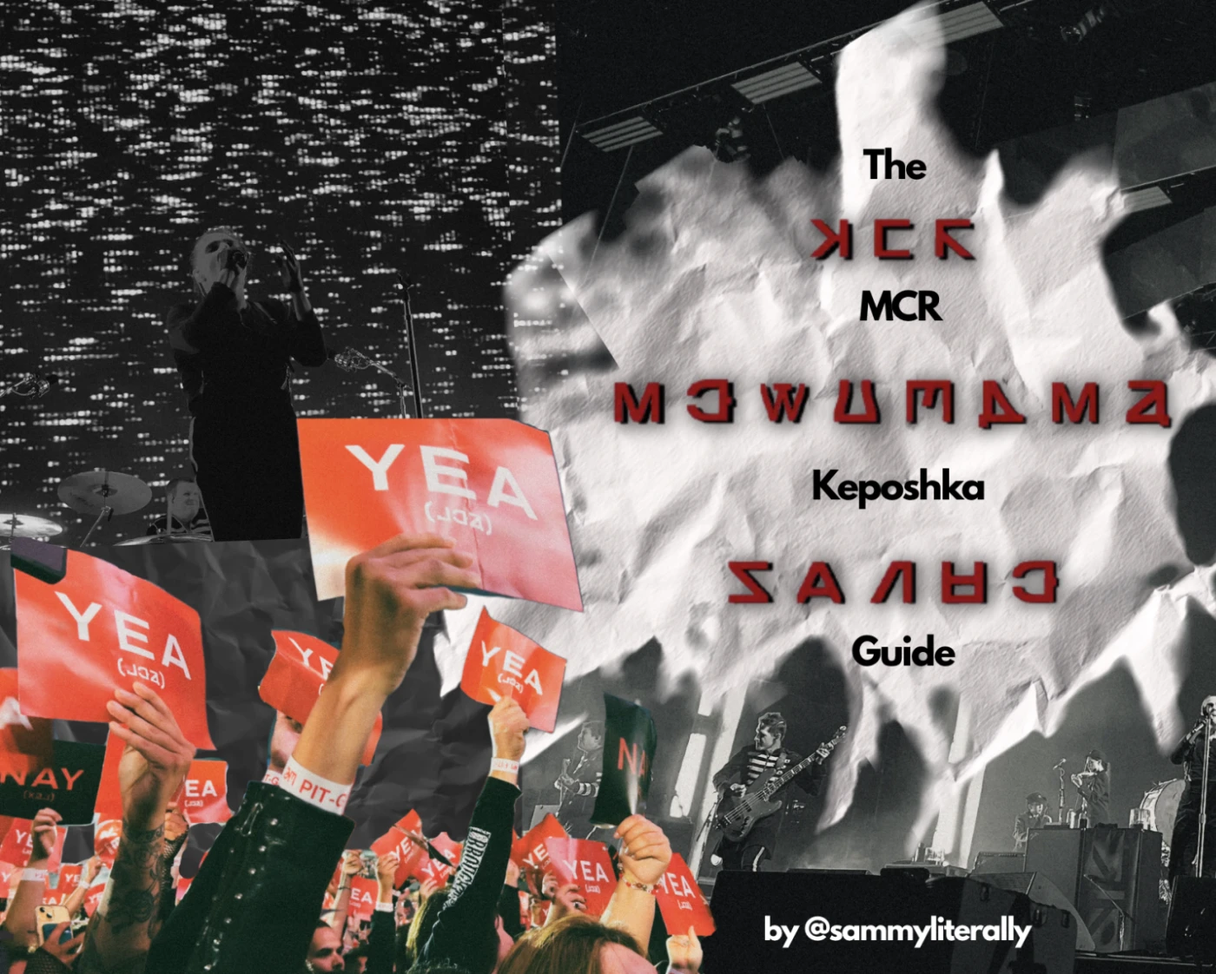A: (1121, 376, 1174, 430)
C: (870, 216, 913, 261)
D: (937, 557, 987, 607)
E: (1009, 557, 1060, 607), (683, 375, 735, 424)
G: (725, 557, 772, 607)
H: (974, 376, 1028, 432)
I: (866, 557, 915, 608)
K: (1048, 378, 1100, 426), (610, 379, 662, 426)
M: (808, 216, 852, 261)
O: (830, 376, 880, 426)
P: (757, 380, 808, 425)
R: (932, 215, 975, 261)
S: (903, 376, 954, 426)
U: (793, 557, 845, 607)
